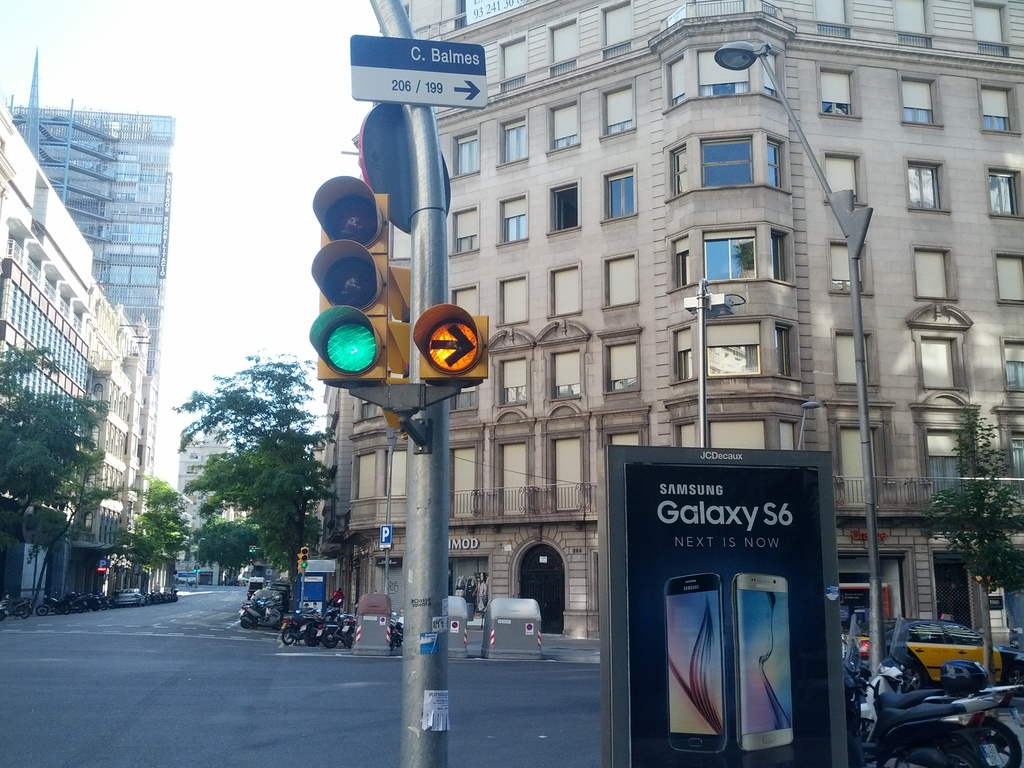green_light: (312, 179, 386, 382)
